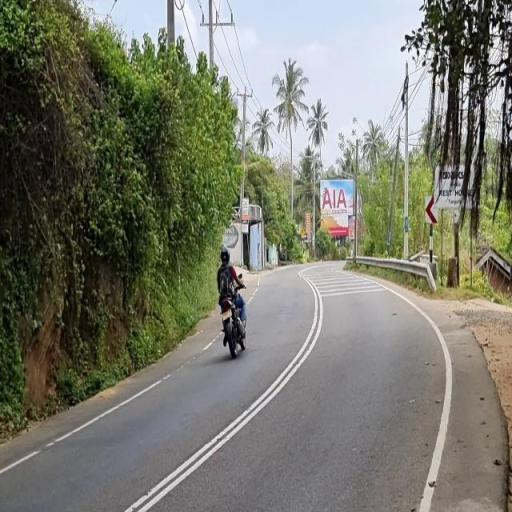double_white_line: (123, 277, 325, 510)
